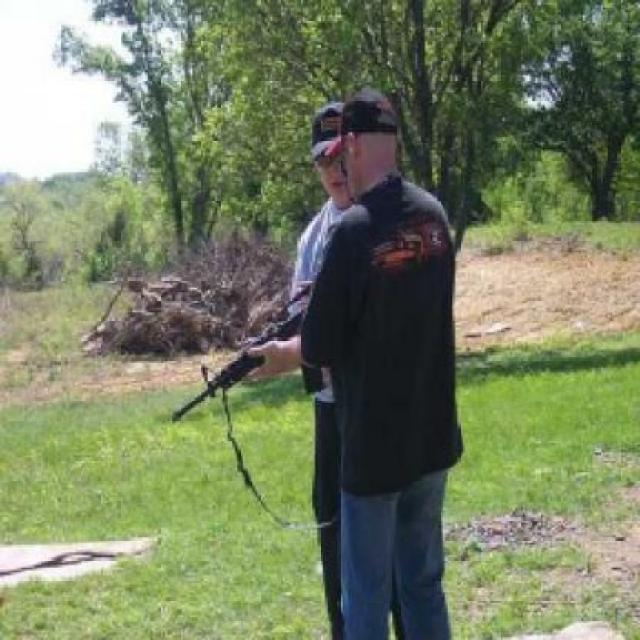Rifle: (170, 262, 380, 425)
